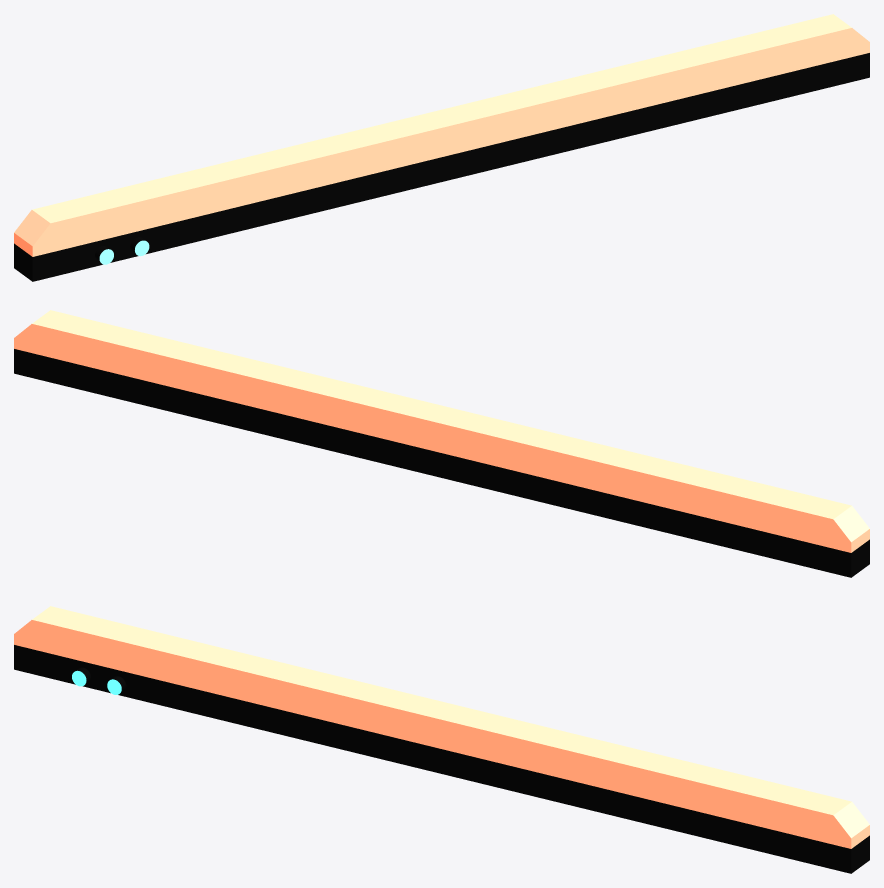
Rendered from Light1.fbx.
3 views of the same model, one above another, from view 1: azimuth 30°, elevation 25°; view 2: azimuth 150°, elevation 25°; view 3: azimuth 330°, elevation 25° (orthographic).
Visible parts, largest first — view 1: Cube; view 2: Cube; view 3: Cube.
Part boxes in pixels (box(x1,y1,x2,y2)): Cube: box(14, 14, 869, 281); Cube: box(14, 310, 869, 577); Cube: box(14, 606, 869, 873).
Size of the model in its own units: 23.16 by 1.43 by 1.11.
